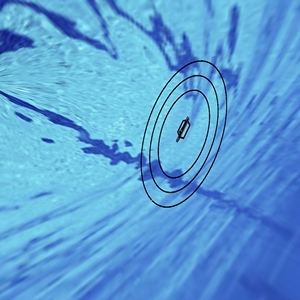circle: (138, 52, 240, 222)
submarine: (172, 114, 194, 150)
